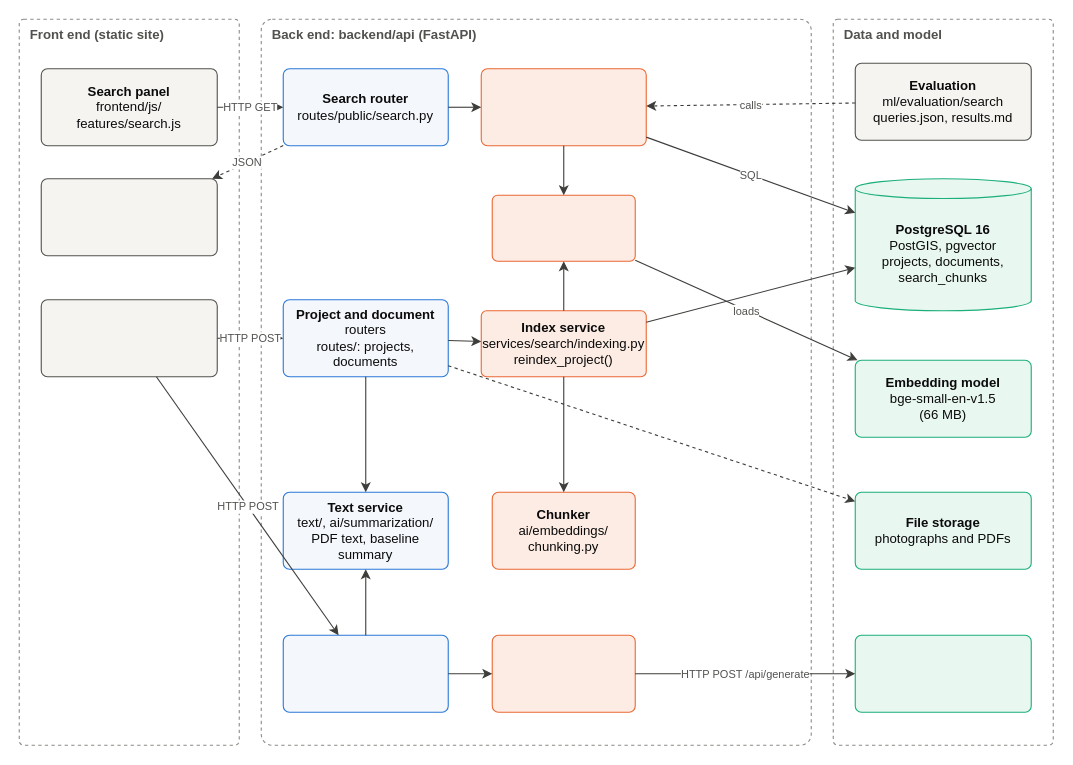
This 1073x765 diagram has some shape labels left out. The shapes that lost their labels are listed below. From the top down, each one's centre as x and y in pixels, then its label:
At point 563,107: "Search service services/search/ keyword, semantic, hybrid".
At point 128,217: "Results drawer passage and similarity per result".
At point 563,227: "Embedder ai/embeddings/ fastembed, ONNX".
At point 128,338: "Admin upload form frontend/js/ features/admin/upload.js".
At point 365,673: "AI router routes/admin/ai.py summarize, extract-pdf".
At point 563,673: "Summarizer ai/summarization Ollama HTTP client".
At point 942,673: "Local Ollama model llama3.2:3b (about 2 GB)".
